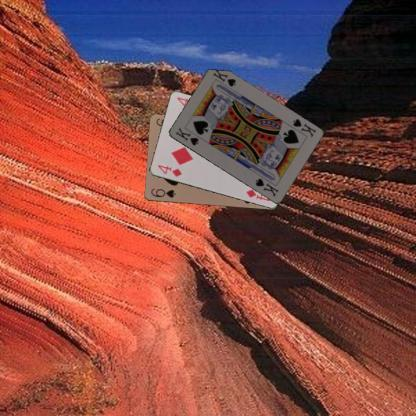4d: (154, 162, 182, 178)
6s: (148, 186, 176, 198)
Ks: (290, 116, 317, 139), (173, 125, 200, 147)
